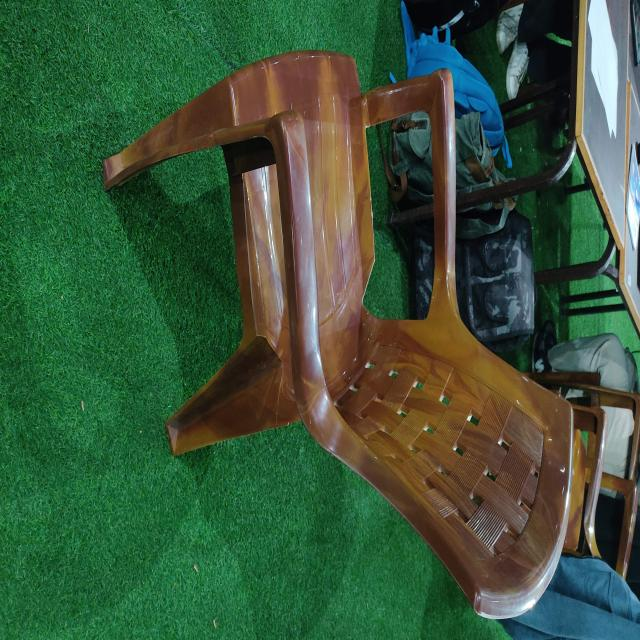Chair: (102, 49, 607, 620)
